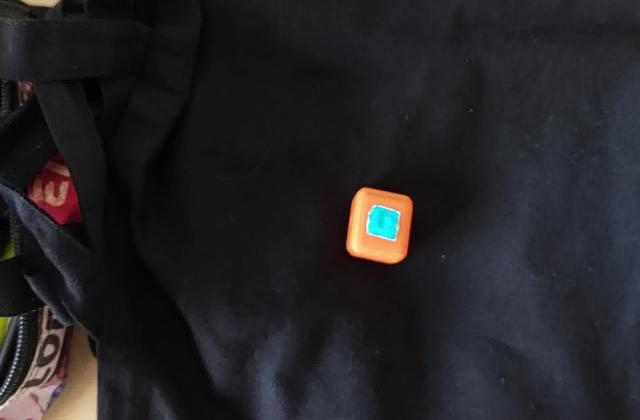blue: (374, 212, 396, 234)
sticker: (344, 184, 414, 268)
